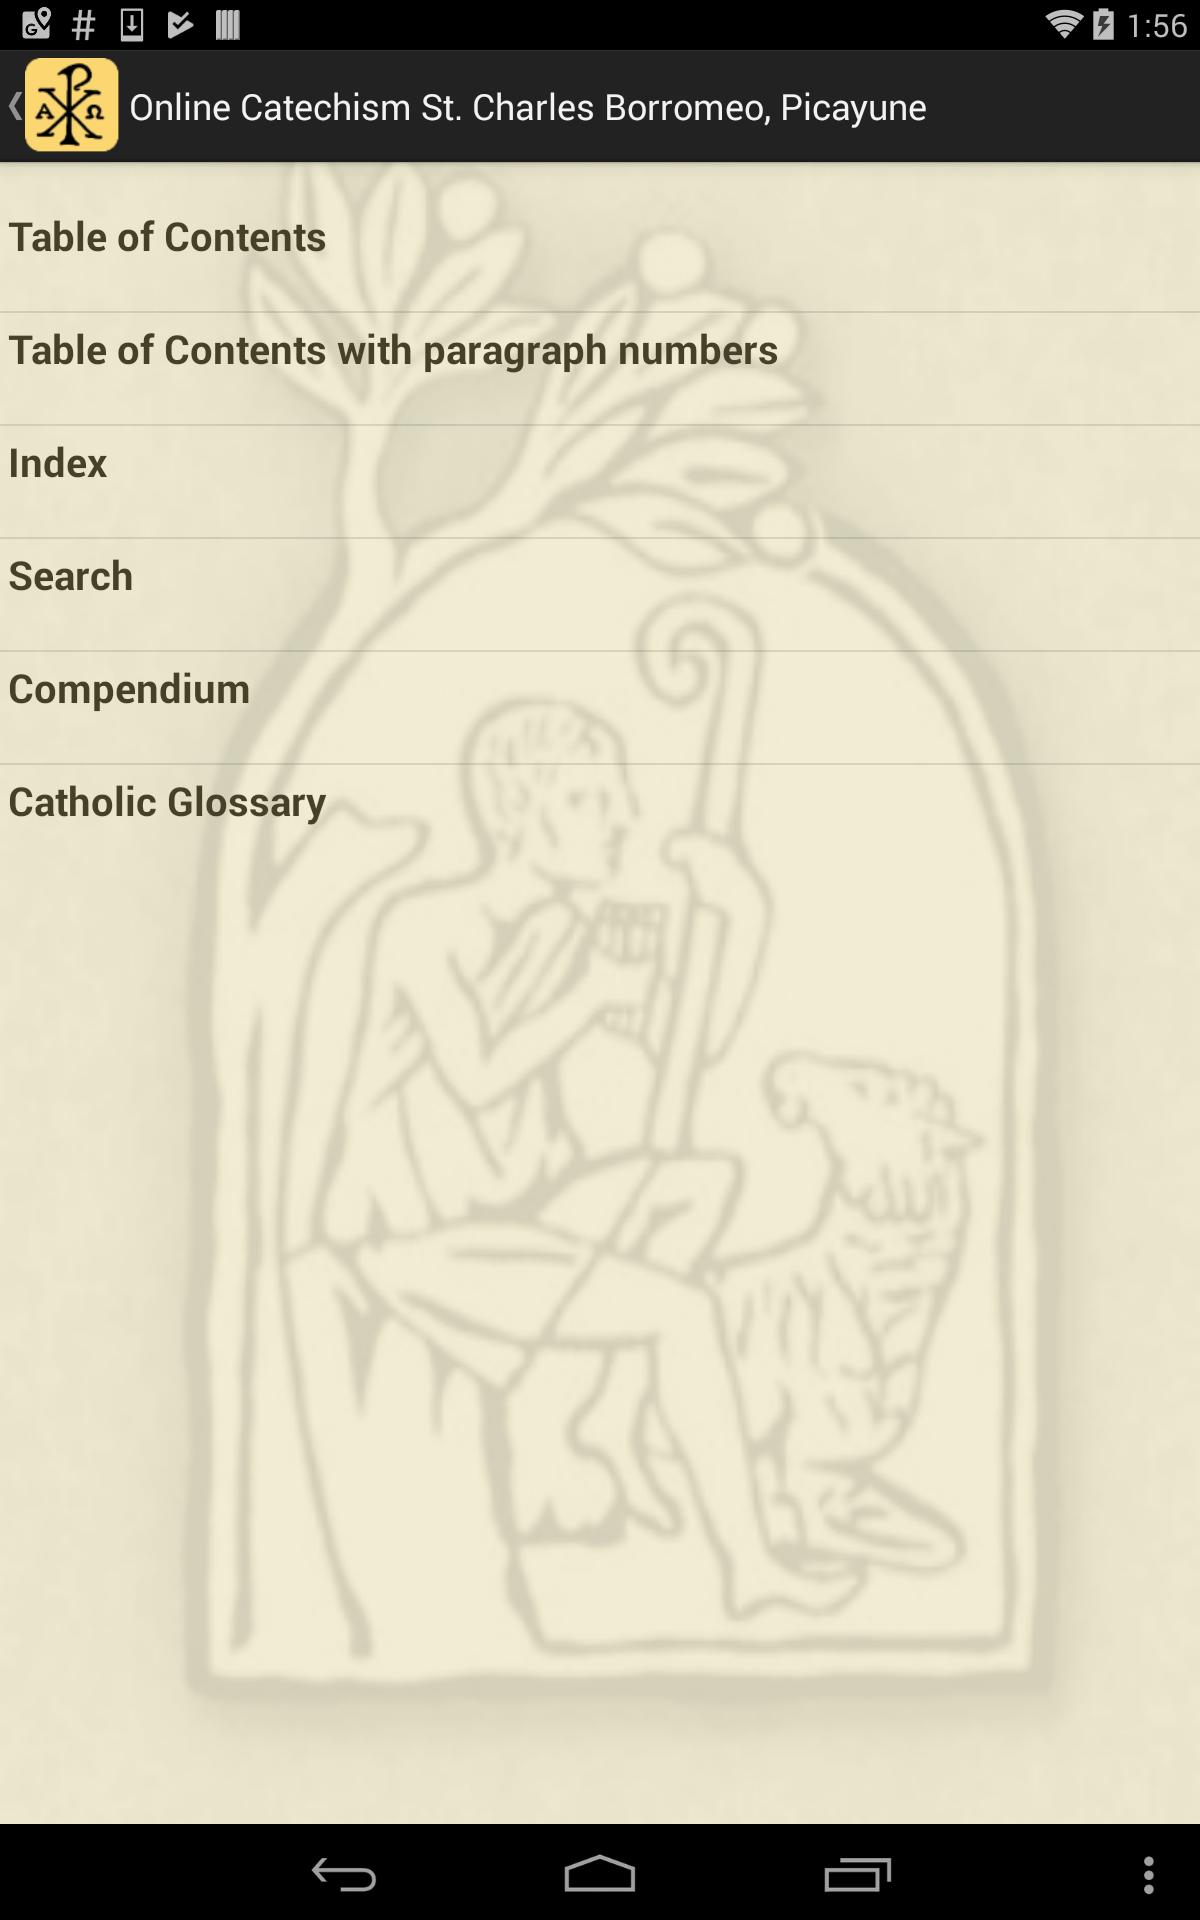android.view.View: (0, 0, 1200, 1825), (0, 162, 1200, 876), (0, 50, 1200, 162)
android.widget.FrameLayout: (0, 0, 1200, 1825), (0, 162, 1200, 1825), (0, 50, 1200, 162), (0, 50, 129, 162)
android.widget.ImageView: (25, 58, 122, 153), (0, 90, 32, 122)
android.widget.LinearLayout: (0, 162, 1200, 876), (0, 312, 1200, 424), (0, 764, 1200, 876), (0, 200, 1200, 311), (0, 426, 1200, 536), (0, 539, 1200, 650), (0, 652, 1200, 763), (0, 50, 944, 162), (129, 82, 944, 130)
android.widget.TextView: (8, 207, 1192, 263), (8, 659, 1192, 715), (8, 321, 1192, 375), (8, 434, 1192, 488), (8, 547, 1192, 601), (8, 773, 1192, 827), (8, 375, 1192, 416), (8, 488, 1192, 529), (8, 827, 1192, 868), (8, 263, 1192, 303), (8, 601, 1192, 641), (8, 715, 1192, 755), (0, 162, 1200, 200), (129, 82, 928, 130)
